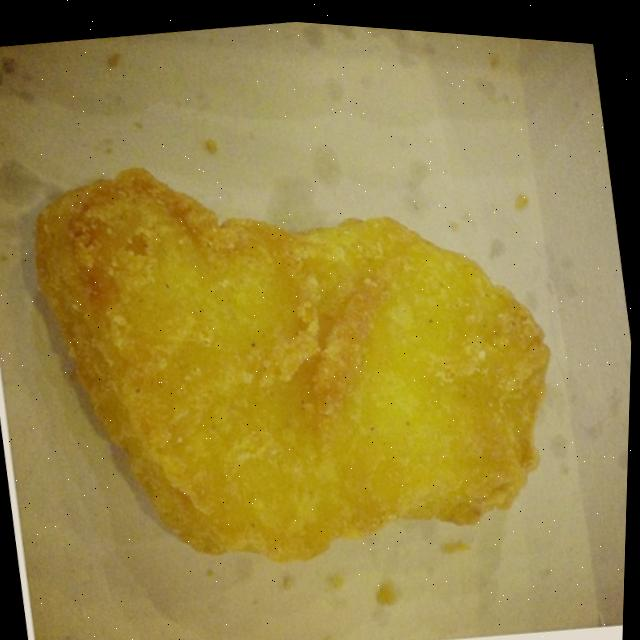鸡肉料理 含炸鸡: (0, 60, 620, 640)
